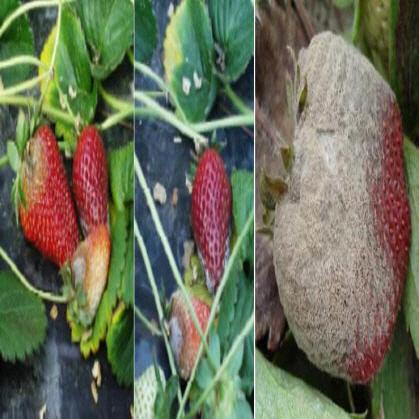Gray Mold: (272, 31, 412, 385), (66, 222, 111, 328), (168, 290, 202, 378)
